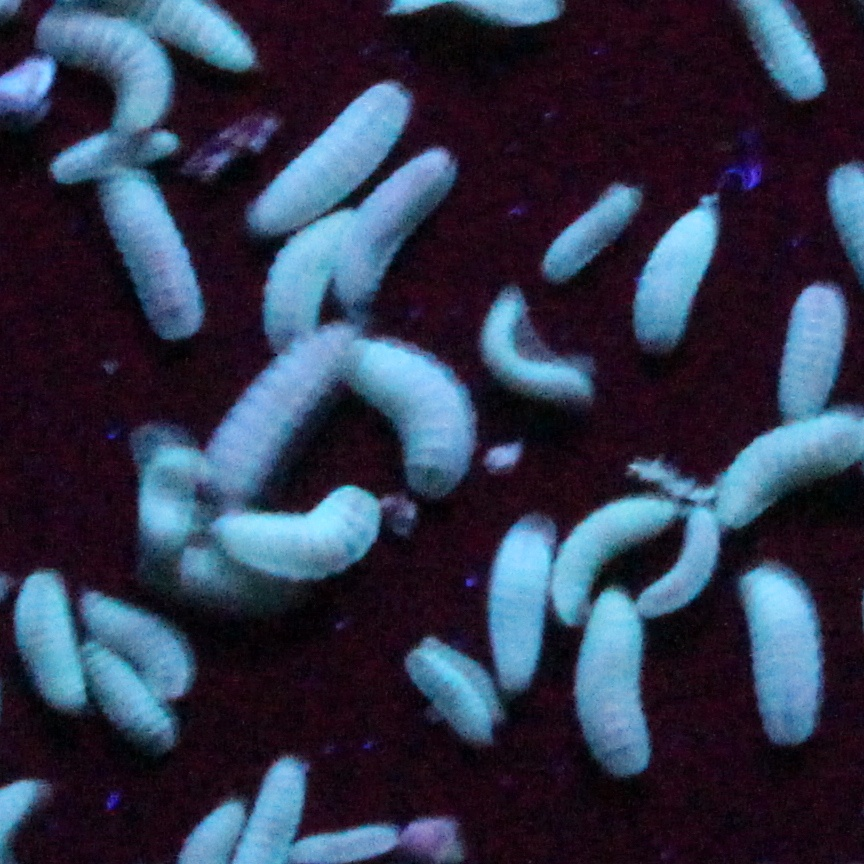larve: (204, 329, 351, 494), (258, 84, 402, 225), (332, 153, 453, 304), (349, 343, 469, 495), (98, 173, 206, 337), (38, 8, 166, 132), (724, 412, 859, 524), (570, 594, 650, 781), (734, 568, 817, 747), (560, 481, 665, 612), (208, 490, 380, 569), (639, 197, 724, 345), (481, 301, 591, 402), (83, 591, 196, 689), (261, 217, 344, 338), (17, 570, 83, 721), (547, 177, 636, 268), (412, 646, 494, 744), (88, 649, 168, 749), (781, 287, 845, 410), (650, 509, 715, 618), (498, 521, 540, 687), (51, 130, 179, 178)
